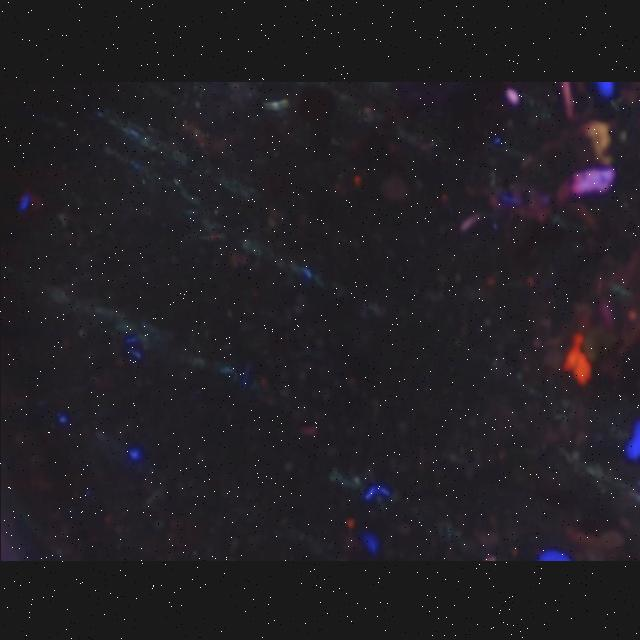microbeads: (260, 96, 288, 112)
